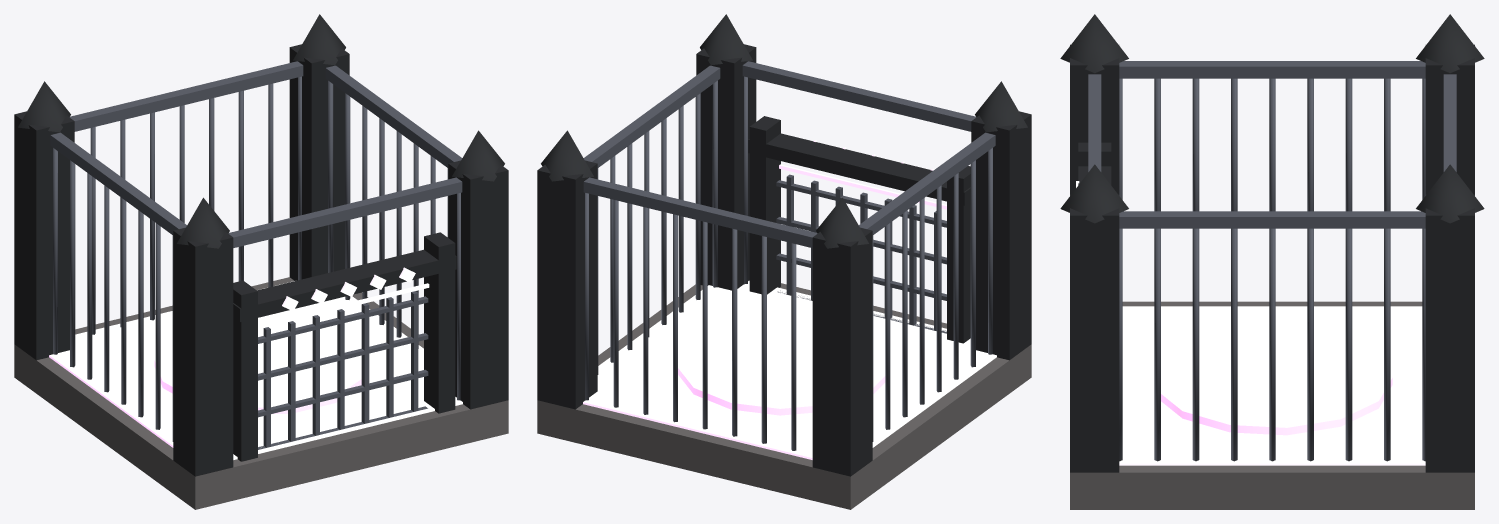
The model's file is MonsterHub_NULL_Pit.glb.
3 views of the same model, side by side, from view 1: azimuth 30°, elevation 25°; view 2: azimuth 150°, elevation 25°; view 3: azimuth 270°, elevation 25° (orthographic). The views are drawn at different scales.
Visible parts, largest first — view 1: MonsterHub_NULL_Pit, MonsterHub_NULL_Pit_Gate; view 2: MonsterHub_NULL_Pit, MonsterHub_NULL_Pit_Gate; view 3: MonsterHub_NULL_Pit.
Part boxes in pixels (x1=…): MonsterHub_NULL_Pit: x1=14, y1=14, x2=508, y2=509; MonsterHub_NULL_Pit_Gate: x1=258, y1=283, x2=429, y2=449; MonsterHub_NULL_Pit: x1=537, y1=14, x2=1031, y2=509; MonsterHub_NULL_Pit_Gate: x1=776, y1=164, x2=946, y2=333; MonsterHub_NULL_Pit: x1=1060, y1=14, x2=1484, y2=509.
Bounding box in the file's own units: 5.16 × 4.5 × 5.16.
